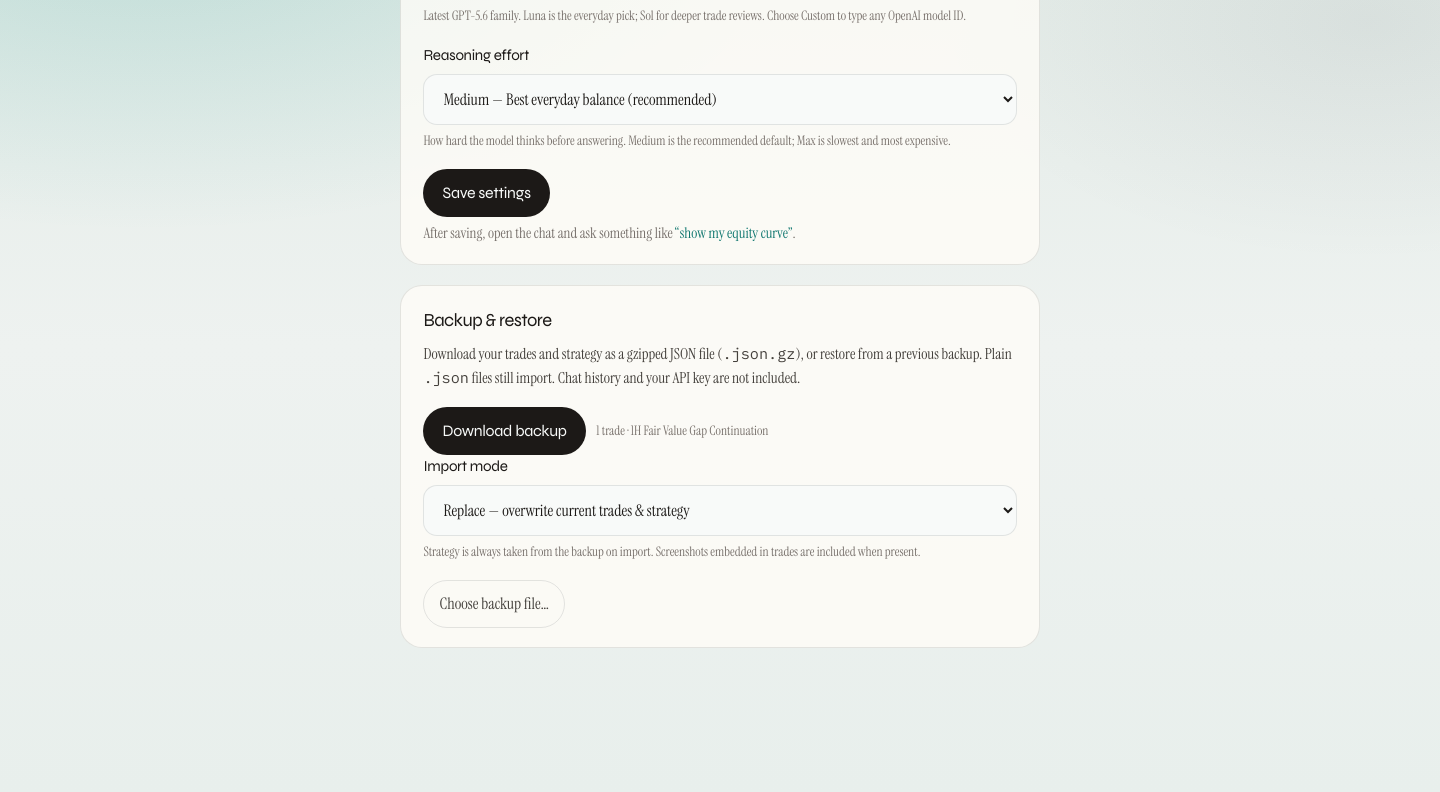
Test: SettingsPage › shows error when gzip export is unsupported
The width and height of the screenshot is (1440, 792).
(page scrolled)
Click the button "Download backup" at {"x": 505, "y": 431}, box [423, 407, 586, 455]
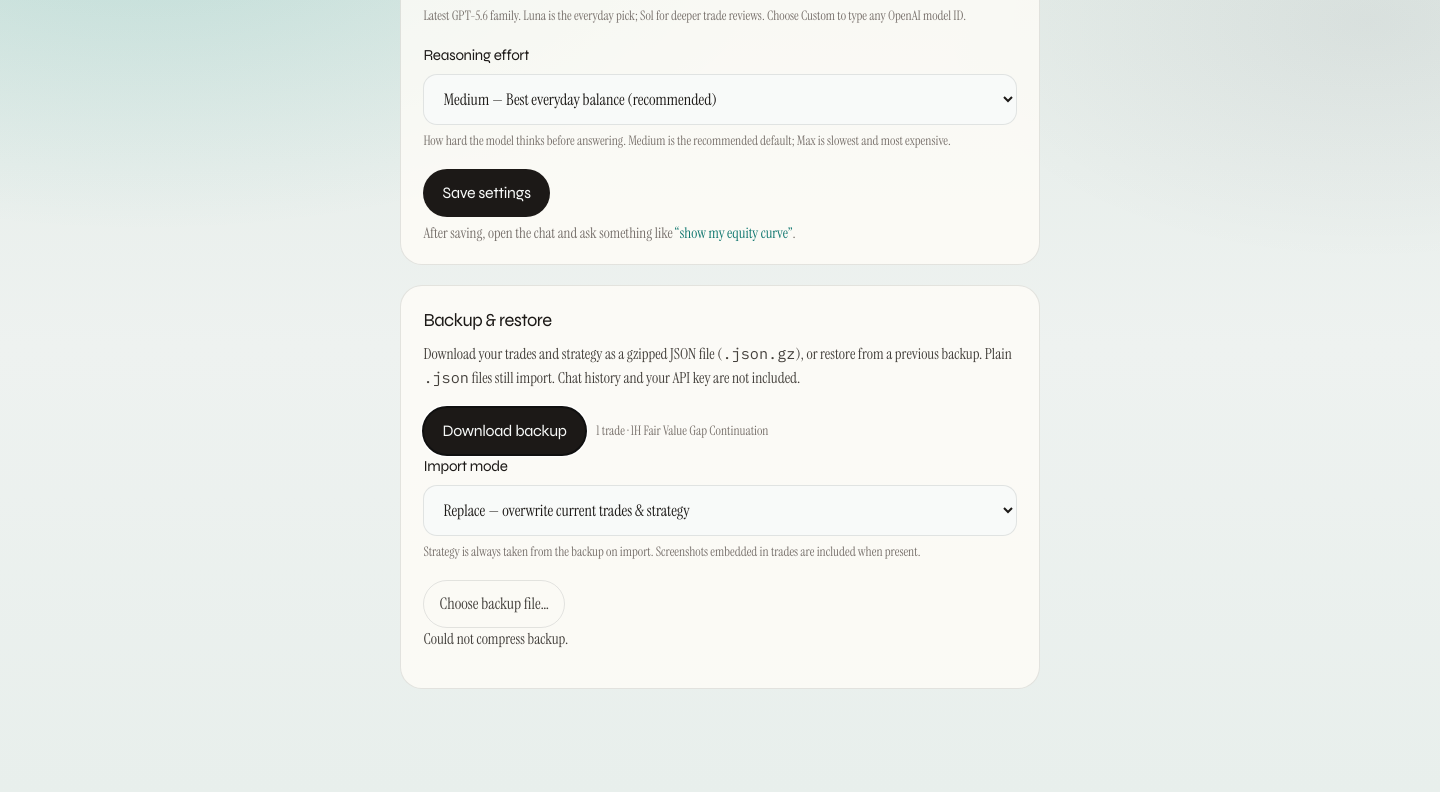
Result: the text "Could not compress backup." is shown at [423, 629, 568, 649]
